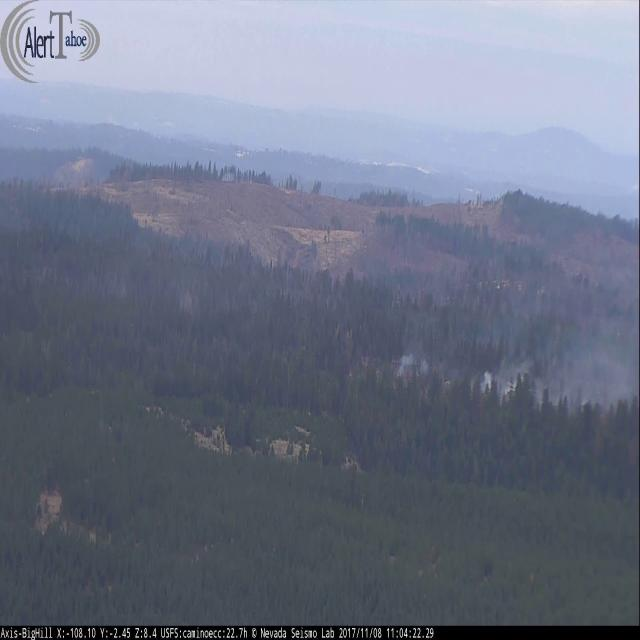smoke: (393, 220, 640, 408)
